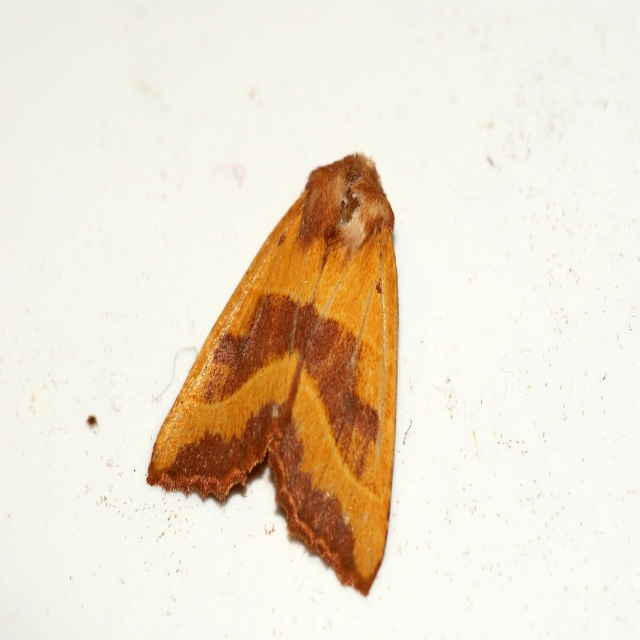Moths and butterflies: (144, 147, 400, 597)
